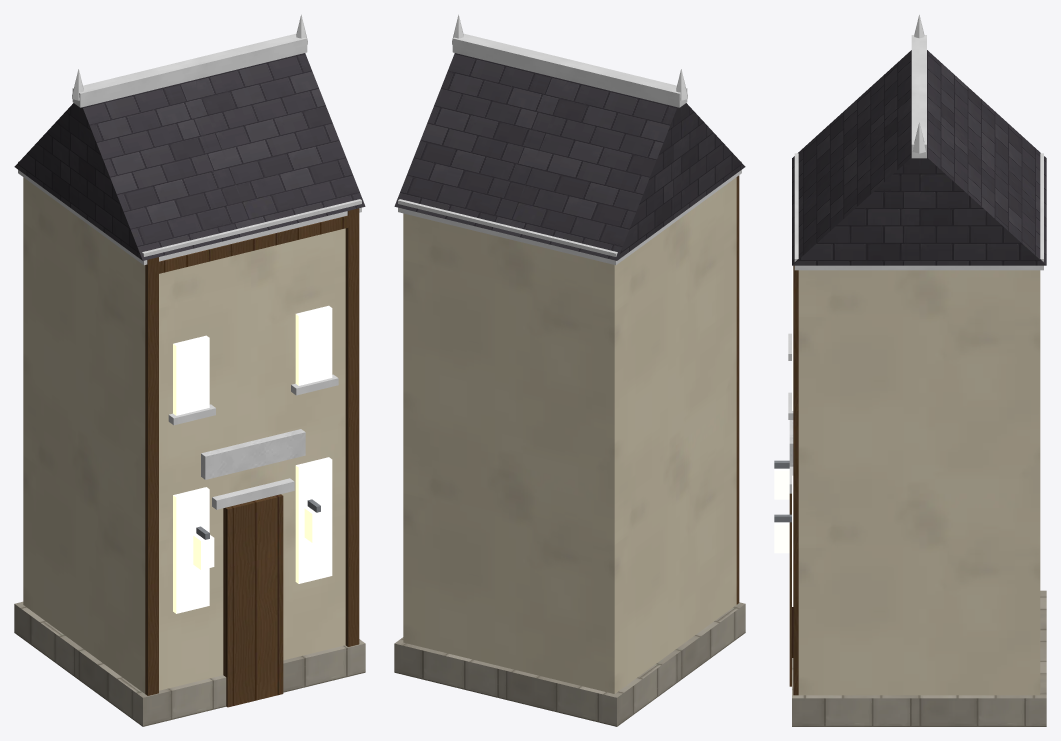
File: category.nft.t6.glb
3 renders of one model, left to right at view 1: azimuth 30°, elevation 25°; view 2: azimuth 150°, elevation 25°; view 3: azimuth 270°, elevation 25°, orthographic.
Parts seen in each view (by area): view 1: building.category.nft.t6; view 2: building.category.nft.t6; view 3: building.category.nft.t6.
Part boxes in pixels (x1=…): building.category.nft.t6: x1=14, y1=14, x2=365, y2=726; building.category.nft.t6: x1=394, y1=14, x2=745, y2=726; building.category.nft.t6: x1=774, y1=14, x2=1046, y2=726.
Size of the model in its own units: 2.12 by 5.25 by 2.14.
Materials: 8 (7 with a texture image).
